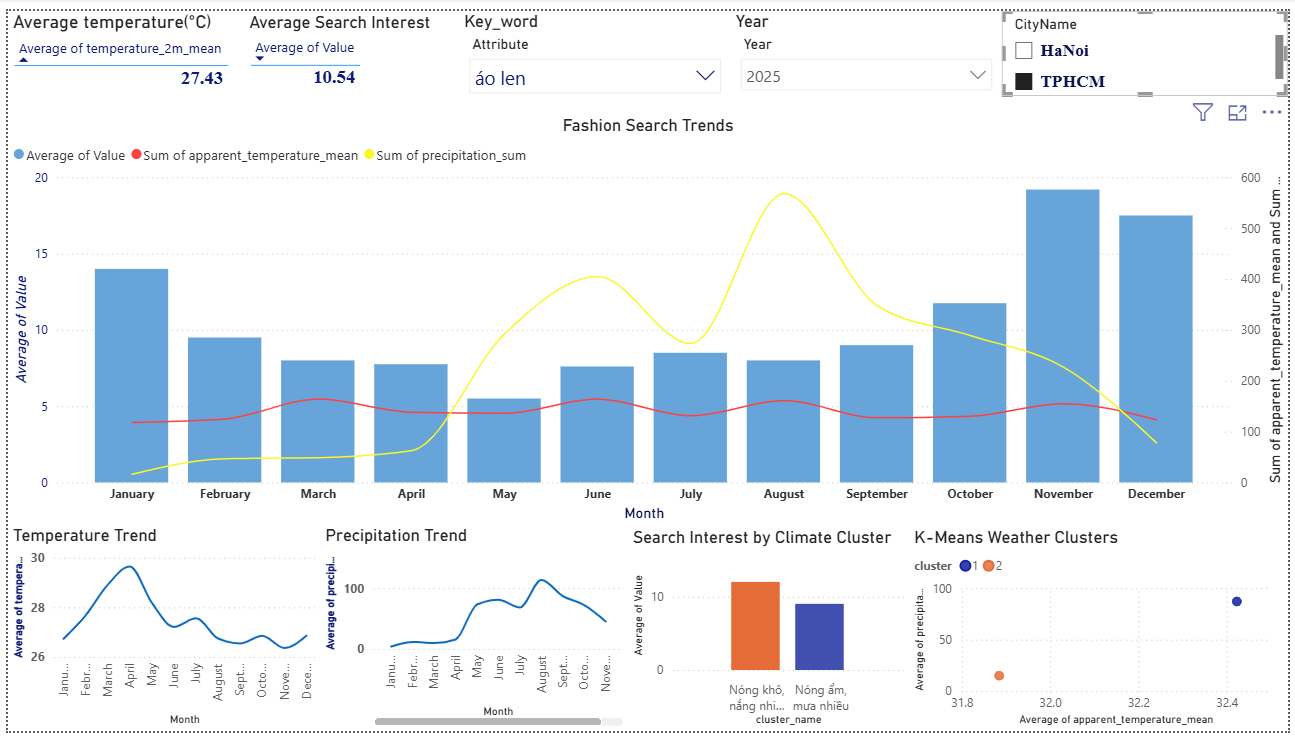

Layout of this report page (visuals, bound fields, positions):
{"tool":"powerbi","page":{"name":"Overview","canvas":[1280,720],"ordinal":0},"visuals":[{"type":"tableEx","title":"Average temperature(°C)","fields":{"Values":["Avg(clean_data.temperature_2m_mean)"]},"box":[0,0,293.8,87.5],"z":0},{"type":"tableEx","title":"Average Search Interest","fields":{"Values":["Avg(clean_data.Value)"]},"box":[236.2,1.2,240,86.2],"z":1000},{"type":"lineClusteredColumnComboChart","title":"\tFashion Search Trends","fields":{"Y":["Avg(clean_data.Value)"],"Y2":["Sum(clean_data.apparent_temperature_mean)","Sum(clean_data.precipitation_sum)"],"Category":["clean_data.date.Variation.Date Hierarchy.Year","clean_data.date.Variation.Date Hierarchy.Month"]},"box":[0,104.3,1280,411.4],"z":2000},{"type":"slicer","fields":{"Values":["clean_data.CityName"]},"box":[993.8,0,286.2,85],"z":3000},{"type":"slicer","title":"Key_word","fields":{"Values":["clean_data.Attribute"]},"box":[451.2,0,271.2,93.8],"z":4000},{"type":"lineChart","title":"Temperature Trend","fields":{"Category":["clean_data.date.Variation.Date Hierarchy.Month"],"Y":["Avg(clean_data.temperature_2m_mean)"]},"box":[0,513.8,312.5,206.2],"z":5000},{"type":"lineChart","title":"Precipitation Trend","fields":{"Category":["clean_data.date.Variation.Date Hierarchy.Month"],"Y":["Avg(clean_data.precipitation_sum)"]},"box":[312.5,513.8,307.5,206.2],"z":6000},{"type":"scatterChart","title":"K-Means Weather Clusters","fields":{"X":["Avg(clean_data.apparent_temperature_mean)"],"Y":["Avg(clean_data.precipitation_sum)"],"Series":["cluster_labels.cluster"],"Category":["cluster_labels.date.Variation.Date Hierarchy.Year","cluster_labels.date.Variation.Date Hierarchy.Quarter","cluster_labels.date.Variation.Date Hierarchy.Month","cluster_labels.date.Variation.Date Hierarchy.Day","cluster_labels.CityName"]},"box":[901.2,516.2,378.8,203.8],"z":7000},{"type":"clusteredColumnChart","title":"Search Interest by Climate Cluster","fields":{"Category":["cluster_labels.cluster_name"],"Y":["Avg(clean_data.Value)"]},"box":[620,516.2,281.2,203.8],"z":8000},{"type":"slicer","title":"Year","fields":{"Values":["clean_data.date.Variation.Date Hierarchy.Year"]},"box":[722.5,0,271.2,93.8],"z":9000}]}

Visuals, with their boxes in screenshot pixels (x1, y1, x2, y2), scaled from the page's 1280x720 canvas onto the 1295x737 screenshot:
"Average temperature(°C)" tableEx: 0 0 297 90
"Average Search Interest" tableEx: 239 1 482 89
"	Fashion Search Trends" lineClusteredColumnComboChart: 0 107 1294 528
slicer - clean_data.CityName: 1005 0 1294 87
"Key_word" slicer: 456 0 731 96
"Temperature Trend" lineChart: 0 526 316 736
"Precipitation Trend" lineChart: 316 526 627 736
"K-Means Weather Clusters" scatterChart: 912 528 1294 736
"Search Interest by Climate Cluster" clusteredColumnChart: 627 528 912 736
"Year" slicer: 731 0 1005 96
